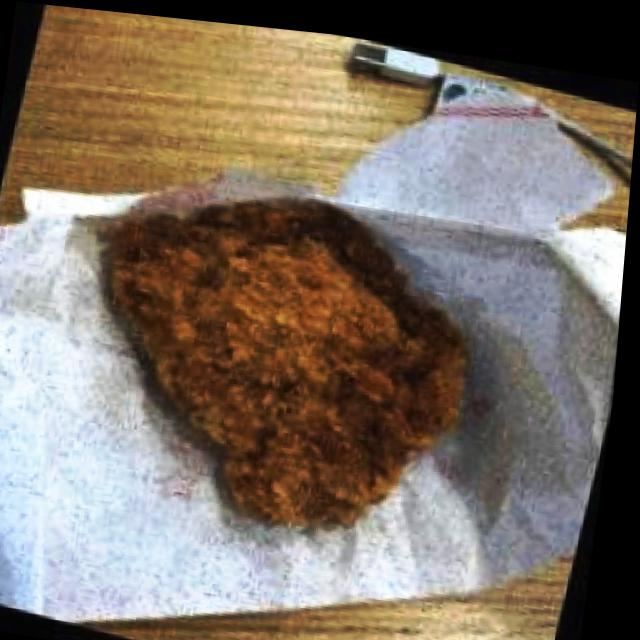fried_chicken: (72, 170, 487, 551)
